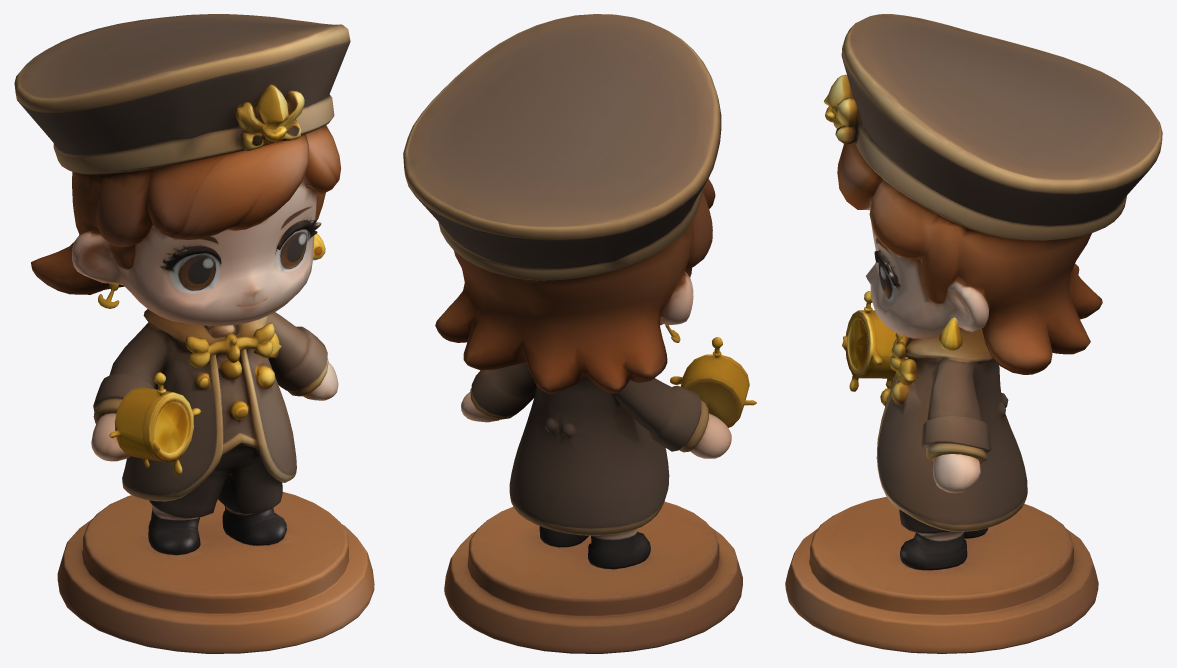
File: filipina-queen.glb
The picture shows the model from 3 angles, left to right: view 1: azimuth 30°, elevation 25°; view 2: azimuth 150°, elevation 25°; view 3: azimuth 270°, elevation 25°; orthographic projection. The views are drawn at different scales.
Visible parts, largest first — view 1: a8e93e8e_3885_45aa_a6ee_f41c744d3eb1; view 2: a8e93e8e_3885_45aa_a6ee_f41c744d3eb1; view 3: a8e93e8e_3885_45aa_a6ee_f41c744d3eb1.
Part boxes in pixels (bbox=[...]): a8e93e8e_3885_45aa_a6ee_f41c744d3eb1: bbox=[14, 14, 374, 653]; a8e93e8e_3885_45aa_a6ee_f41c744d3eb1: bbox=[403, 14, 756, 653]; a8e93e8e_3885_45aa_a6ee_f41c744d3eb1: bbox=[785, 14, 1162, 653].
Bounding box in the file's own units: 0.5366 × 0.9995 × 0.6187.
Materials: 1 (1 with a texture image).
